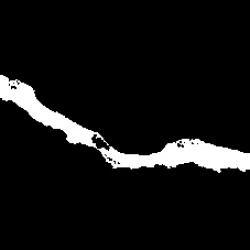crack: (1, 74, 108, 149), (100, 138, 247, 174)
